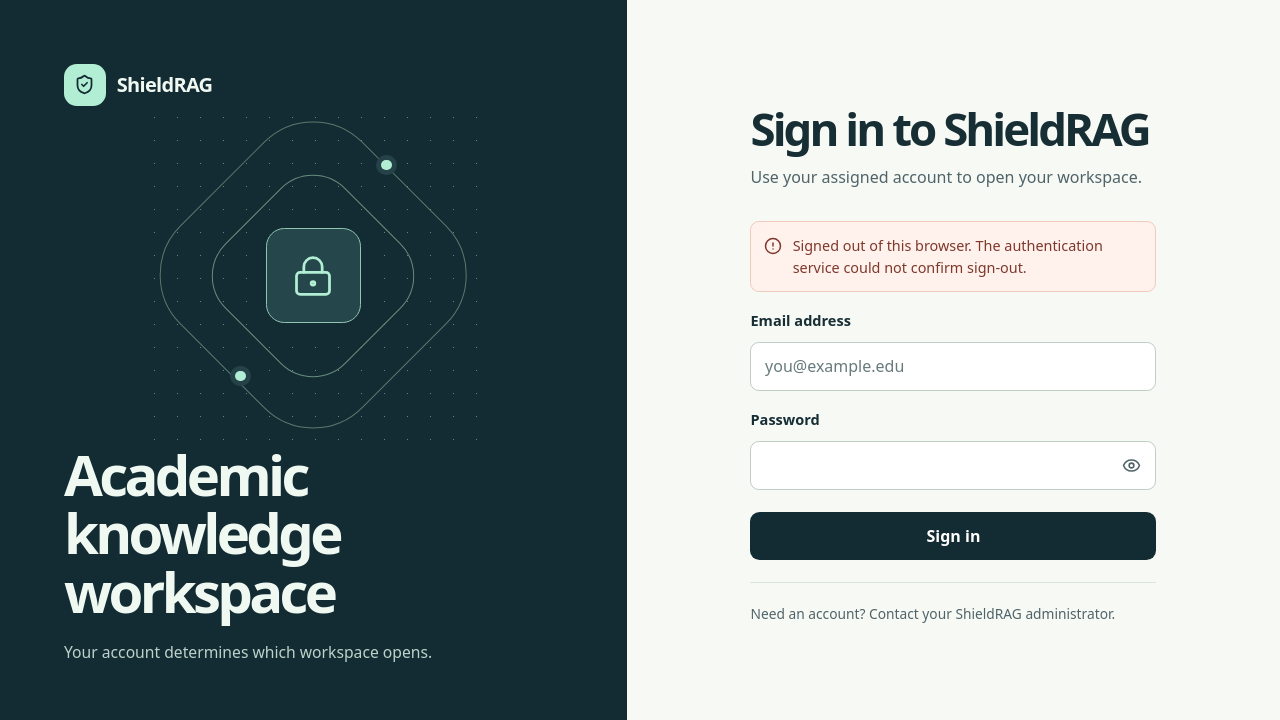
Scenario: profile trust and session changes › clears protected state on a remote logout failure and allows sign-in again
The width and height of the screenshot is (1280, 720).
Later steps or results of the test are not shown.
Expected: the message shows "Signed out of this browser.", top-left (793, 236), bottom-right (1103, 277)
Type "student@example.test" into the field labelled "Email address". click: (954, 366)
box: top-left (750, 342), bottom-right (1156, 391)
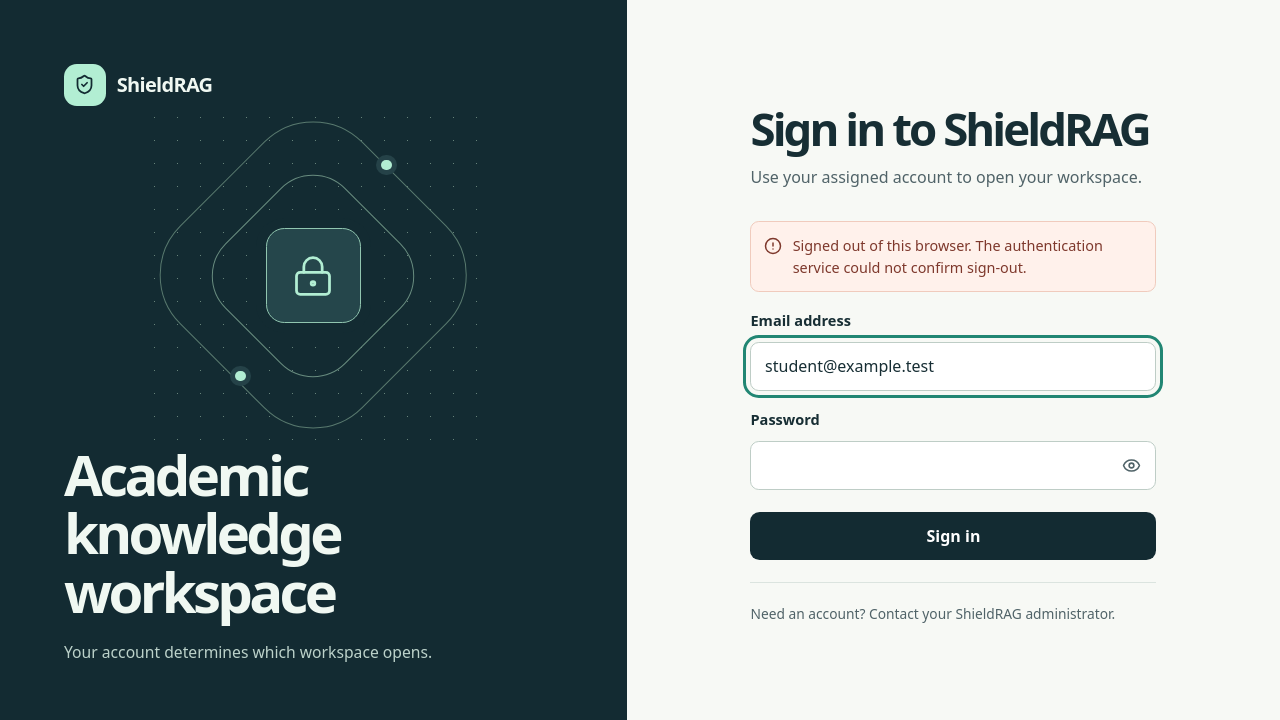
Type "synthetic-password" into the password field labelled "Password". click: (954, 465)
box: top-left (750, 441), bottom-right (1156, 490)
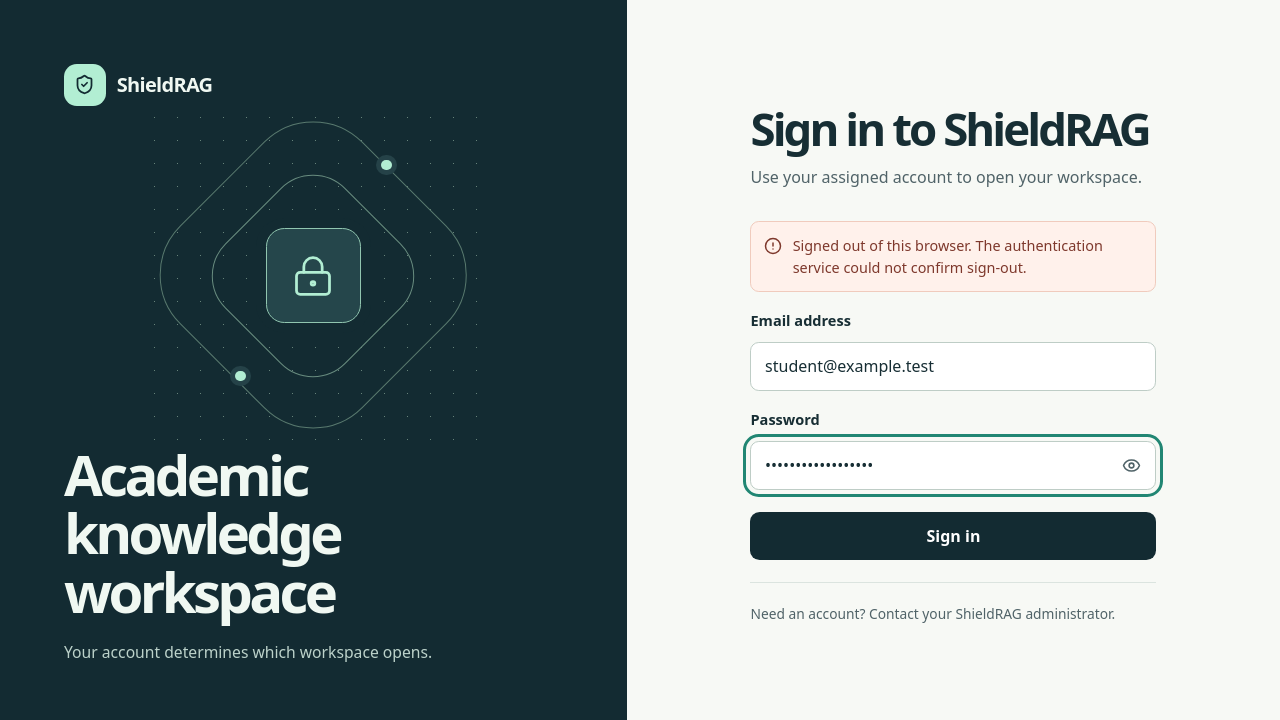
Click the button "Sign in". click: (954, 536)
box: top-left (750, 512), bottom-right (1156, 560)
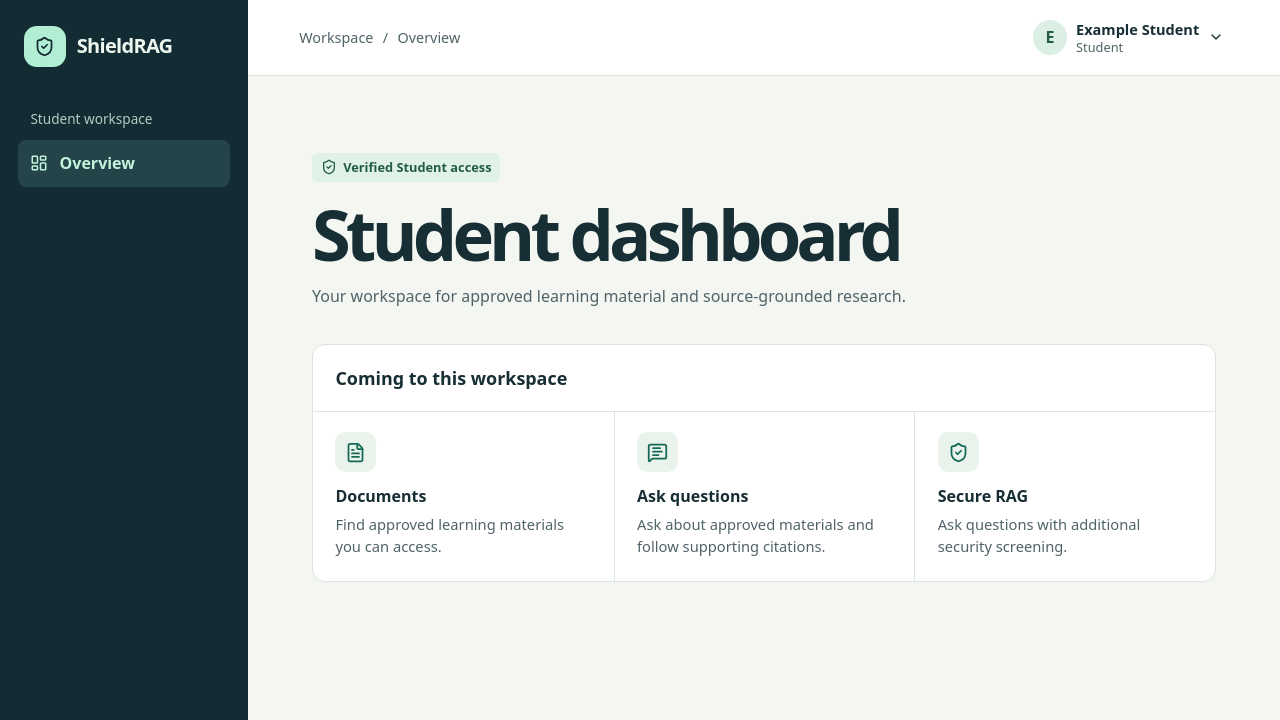
Expected: the heading "Student dashboard" is shown, top-left (312, 186), bottom-right (899, 282)
